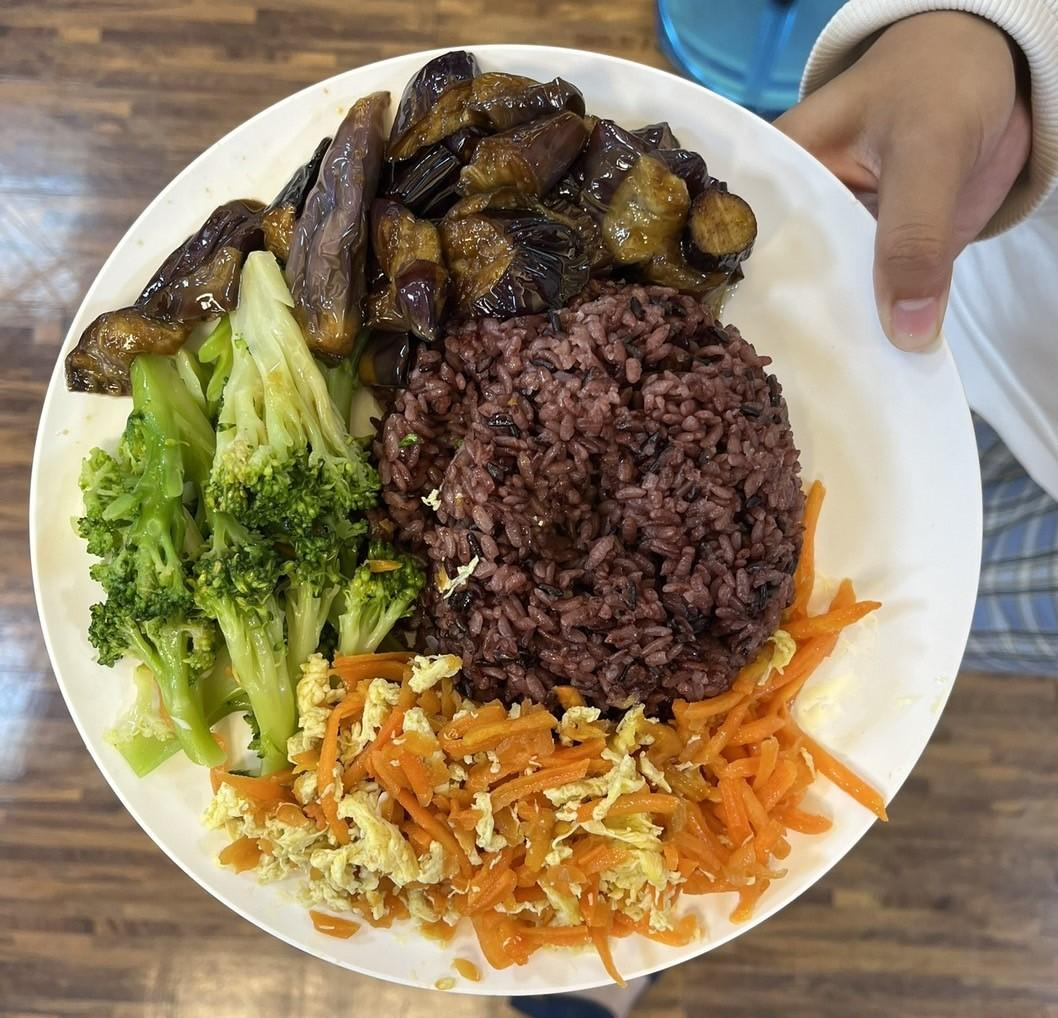big fried chicken leg: (8, 30, 1007, 1004)
braised fish: (359, 300, 810, 710)
braised fish fillet: (83, 55, 760, 361), (233, 656, 816, 942), (81, 245, 386, 758)
